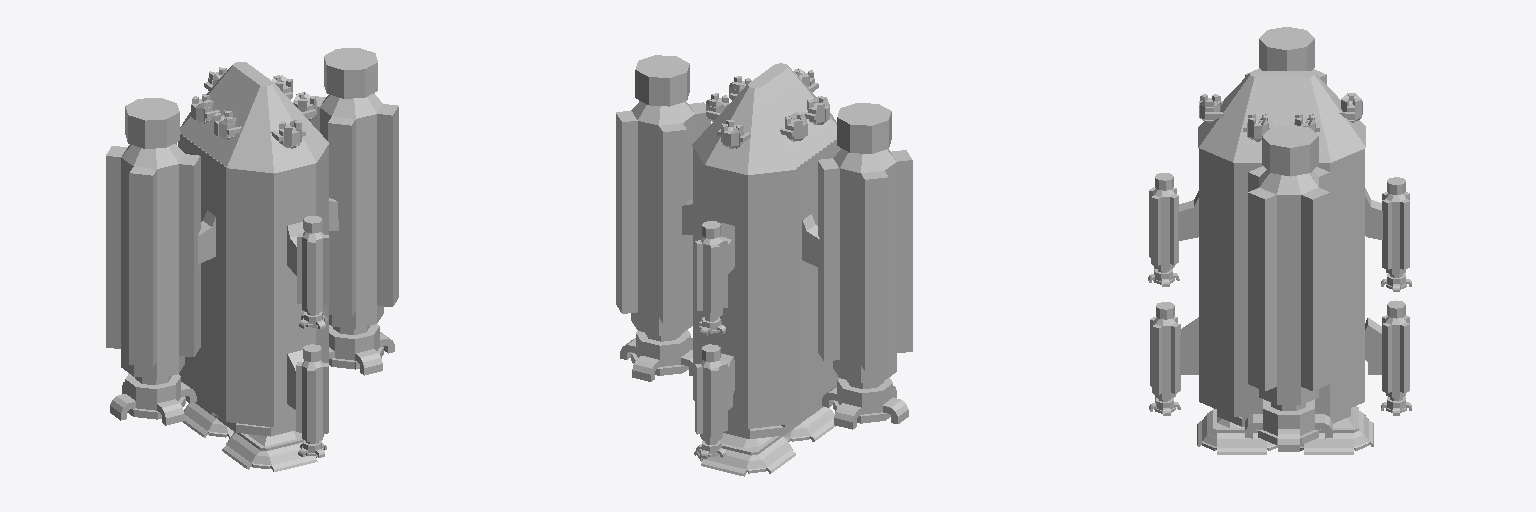
The model's file is rocket_t9.obj.
3 views of the same model, side by side, from view 1: azimuth 30°, elevation 25°; view 2: azimuth 150°, elevation 25°; view 3: azimuth 270°, elevation 25° (orthographic).
Visible parts, largest first — view 1: Cockoit, RocketEngine004, RocketEngine008, NoseRocket, RocketEngineBottom004, Nozzle001, RocketEngine, RocketEngine005, RocketEnginePlut004, RocketEngineBottom008, RocketEnginePlut008, Nozzle002 (+7 smaller); view 2: Cockoit, RocketEngine004, RocketEngine008, NoseRocket, RocketEngineBottom004, RocketEngineBottom008, Nozzle002, RocketEngine002, RocketEngine007, RocketEnginePlut008, RocketEnginePlut004, Nozzle001 (+5 smaller); view 3: Cockoit, RocketEngine008, NoseRocket, RocketEngineBottom008, RocketEnginePlut008, RocketEngine, RocketEngine005, RocketEnginePlut004, RocketEngine002, RocketEngine007, Nozzle001, Nozzle002 (+7 smaller).
Boxes of the visible parts, box(x1,y1,x2,y2) form: Cockoit: box(178, 133, 328, 426); RocketEngine004: box(106, 142, 200, 378); RocketEngine008: box(310, 93, 398, 328); NoseRocket: box(180, 62, 328, 173); RocketEngineBottom004: box(110, 374, 196, 425); Nozzle001: box(222, 431, 324, 471); RocketEngine: box(296, 360, 328, 441); RocketEngine005: box(297, 232, 329, 313); RocketEnginePlut004: box(125, 98, 179, 148); RocketEngineBottom008: box(329, 324, 394, 375); RocketEnginePlut008: box(324, 48, 377, 98); Nozzle002: box(183, 403, 233, 438); Cockoit: box(693, 139, 840, 428); RocketEngine004: box(818, 148, 912, 382); RocketEngine008: box(616, 100, 710, 335); NoseRocket: box(692, 63, 836, 174); RocketEngineBottom004: box(822, 377, 908, 429); RocketEngineBottom008: box(620, 330, 692, 381); Nozzle002: box(694, 433, 795, 476); RocketEngine002: box(695, 360, 727, 441); RocketEngine007: box(695, 237, 727, 318); RocketEnginePlut008: box(635, 55, 689, 106); RocketEnginePlut004: box(837, 103, 891, 153); Nozzle001: box(784, 407, 835, 441); Cockoit: box(1199, 148, 1364, 416); RocketEngine008: box(1248, 166, 1329, 404); NoseRocket: box(1198, 71, 1365, 162); RocketEngineBottom008: box(1245, 399, 1332, 451); RocketEnginePlut008: box(1262, 124, 1318, 176); RocketEngine: box(1150, 316, 1180, 399); RocketEngine005: box(1149, 187, 1178, 270); RocketEnginePlut004: box(1259, 27, 1314, 70); RocketEngine002: box(1382, 315, 1409, 397); RocketEngine007: box(1382, 192, 1409, 274); Nozzle001: box(1197, 408, 1277, 454); Nozzle002: box(1300, 406, 1373, 454).
Bounding box in the file's own units: 8.94 × 11.23 × 7.39.